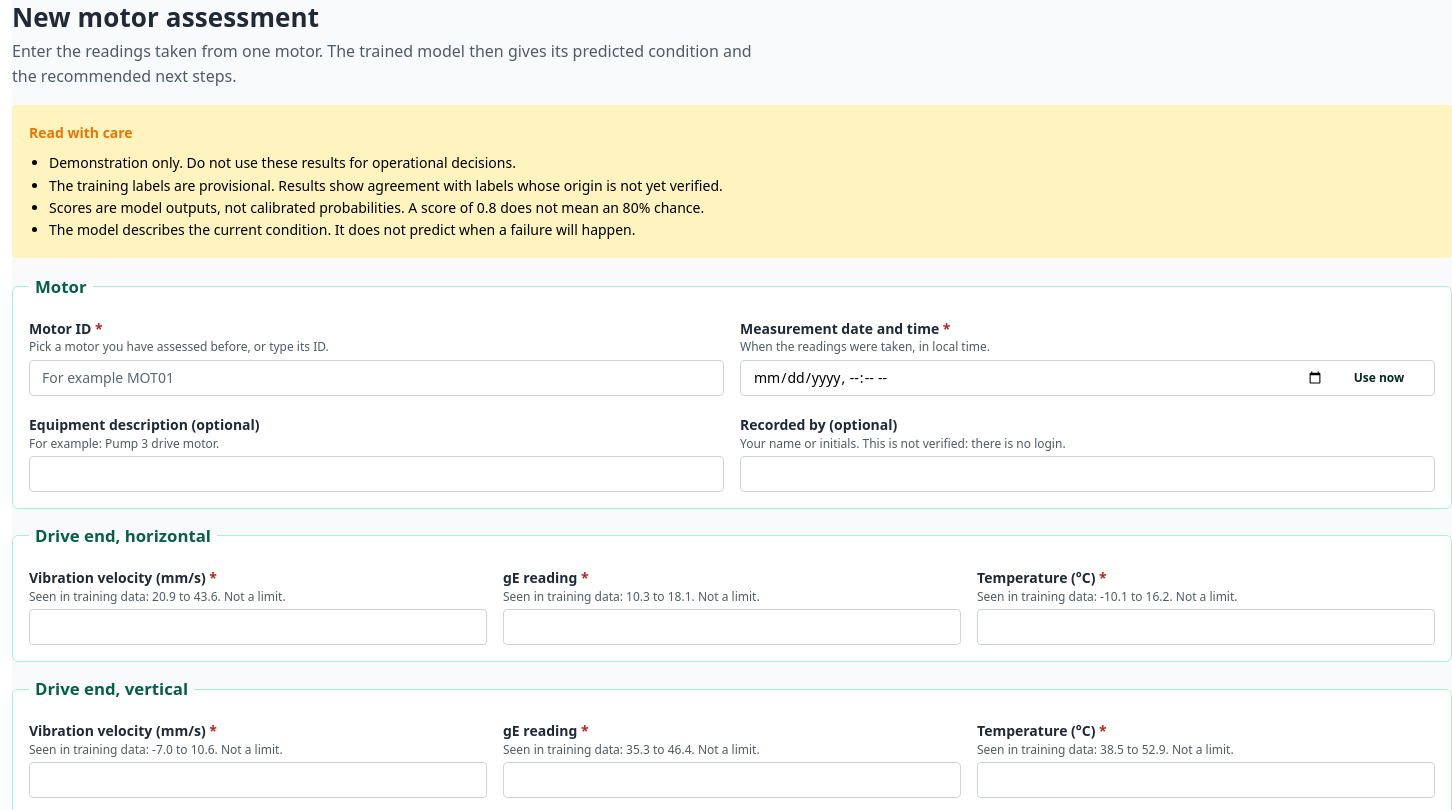
Test: New assessment form › explains missing and invalid fields, keeps entries, and sends nothing
This screenshot has width=1452, height=810.
Expected: the heading "New motor assessment" is shown, [12,0,319,35]
Type "MOT01" into the dropdown labelled "Motor ID *" at (376, 378), box [29,360,724,396]
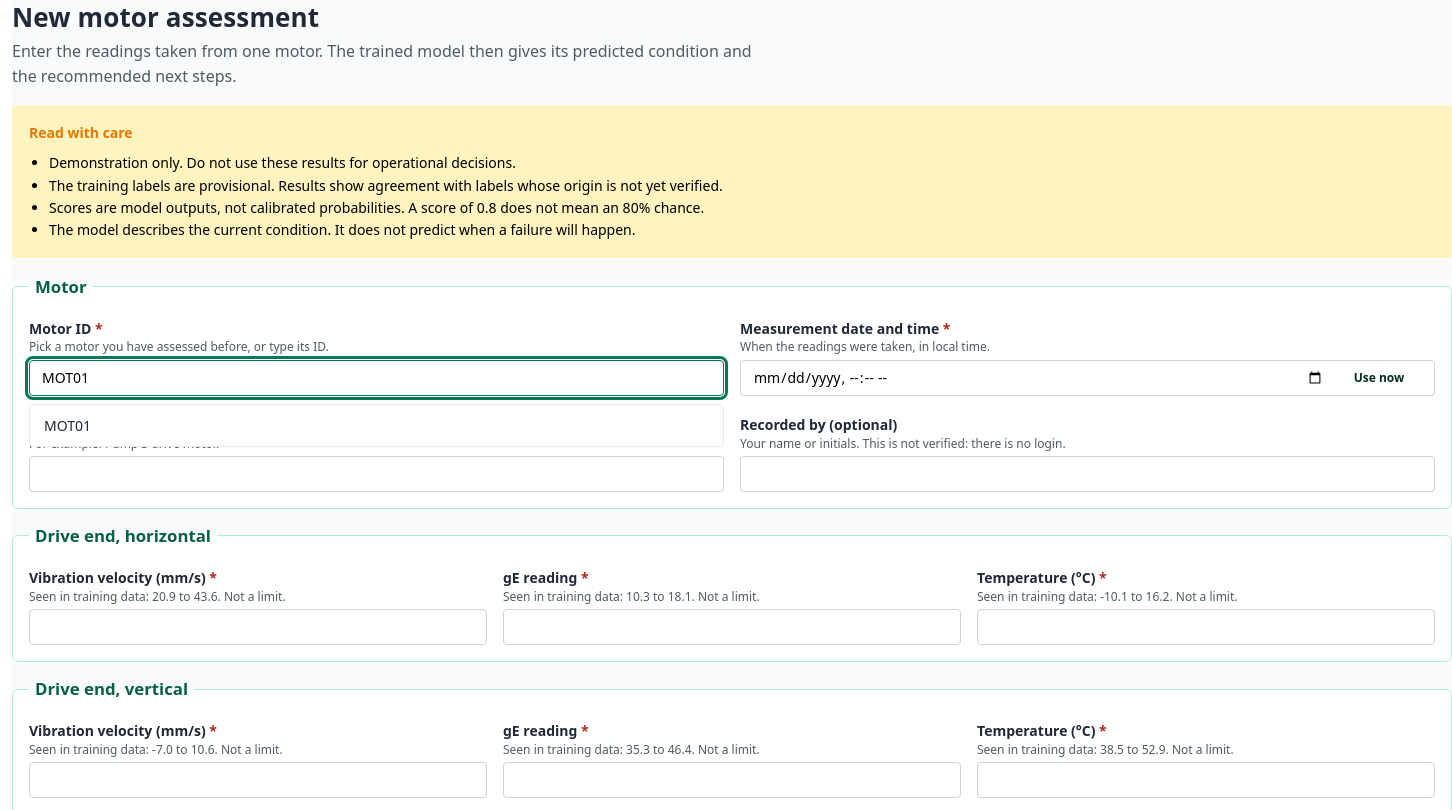
Type "abc" into the 1st field labelled "Vibration velocity (mm/s) *" at (258, 627), box [29,609,487,645]
(page scrolled)
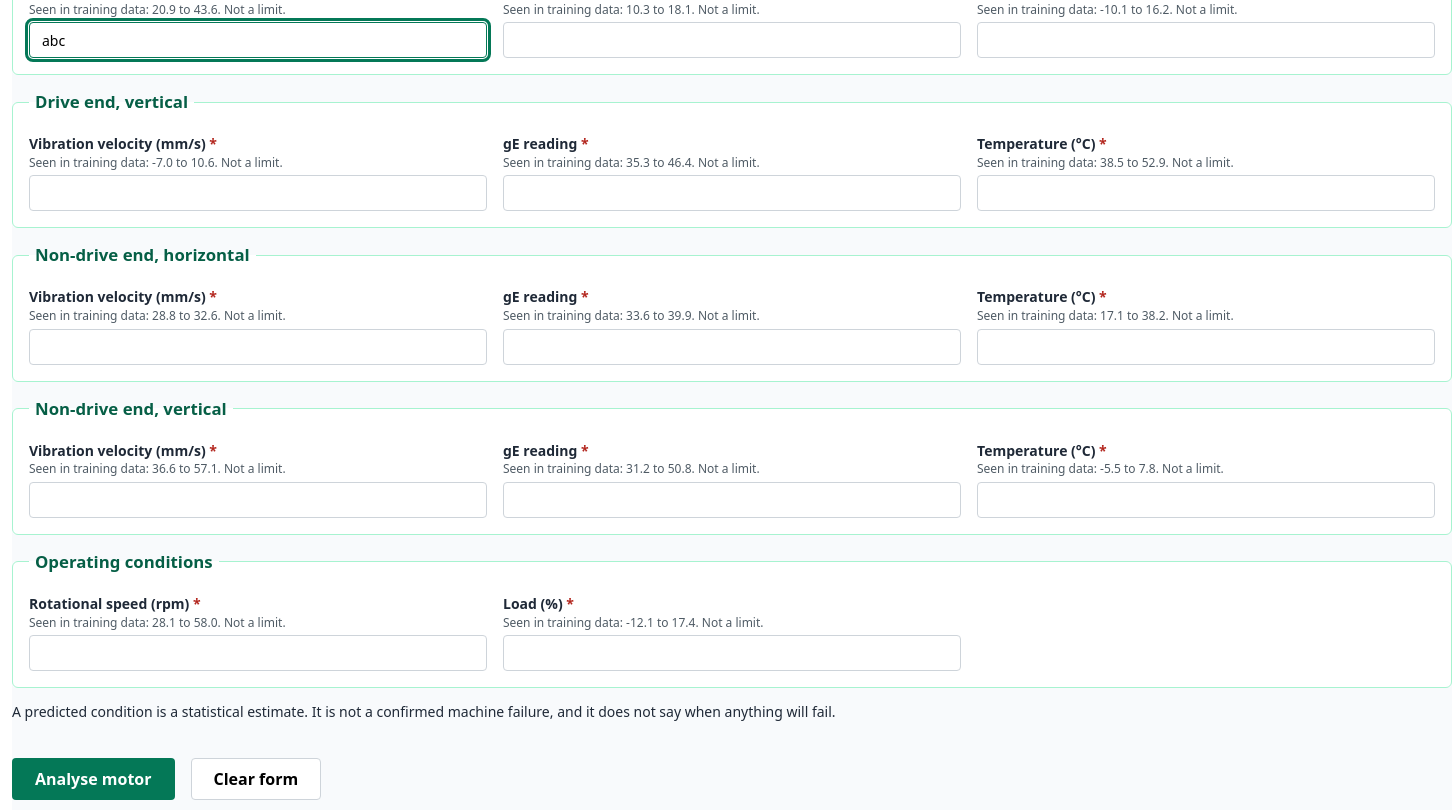
Click the button "Analyse motor" at (93, 779), box [12,758,174,800]
(page scrolled)
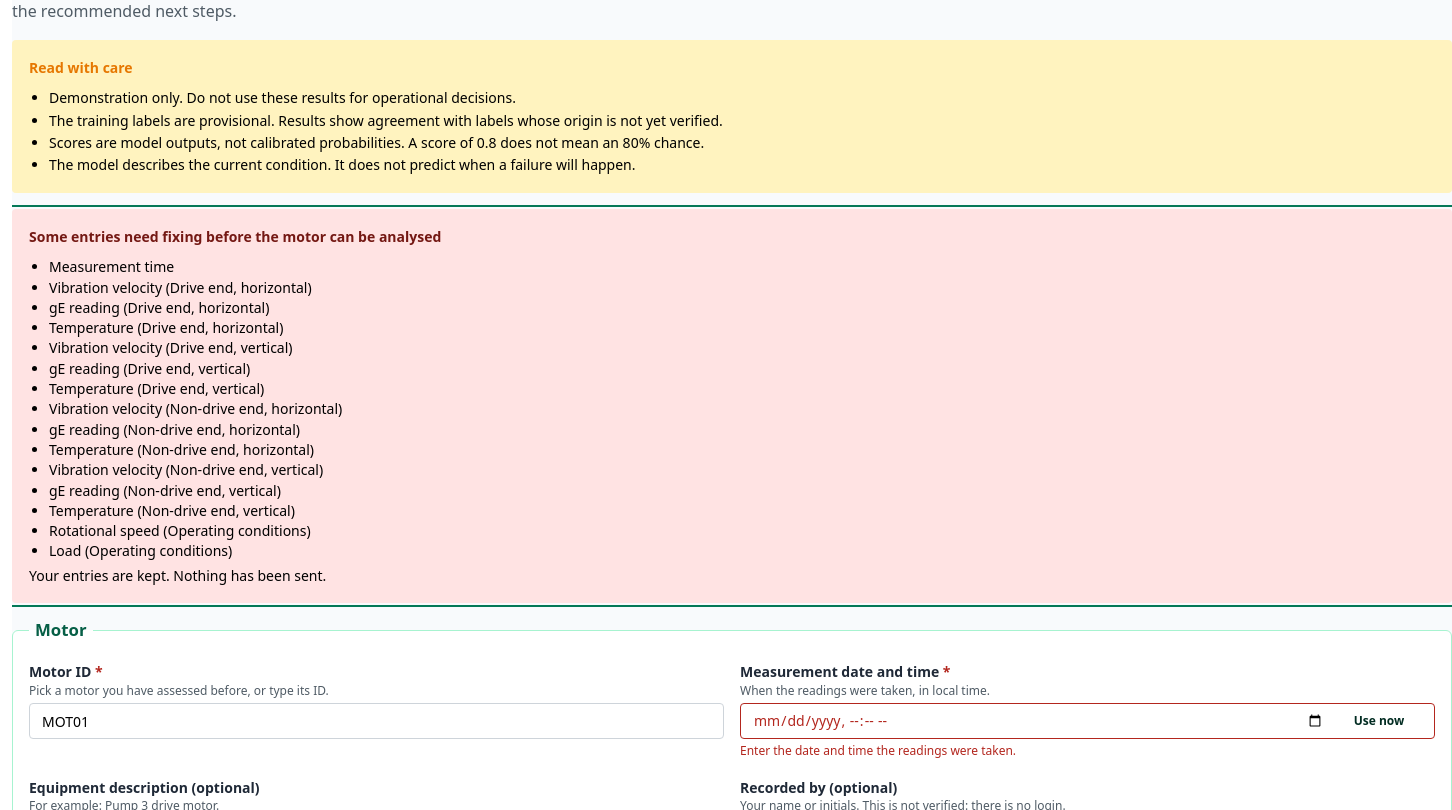
Expected: the text "Some entries need fixing before the motor can be analysed" is shown, [29,226,441,247]
Expected: the text "Your entries are kept. Nothing has been sent." is shown, [29,566,326,585]
